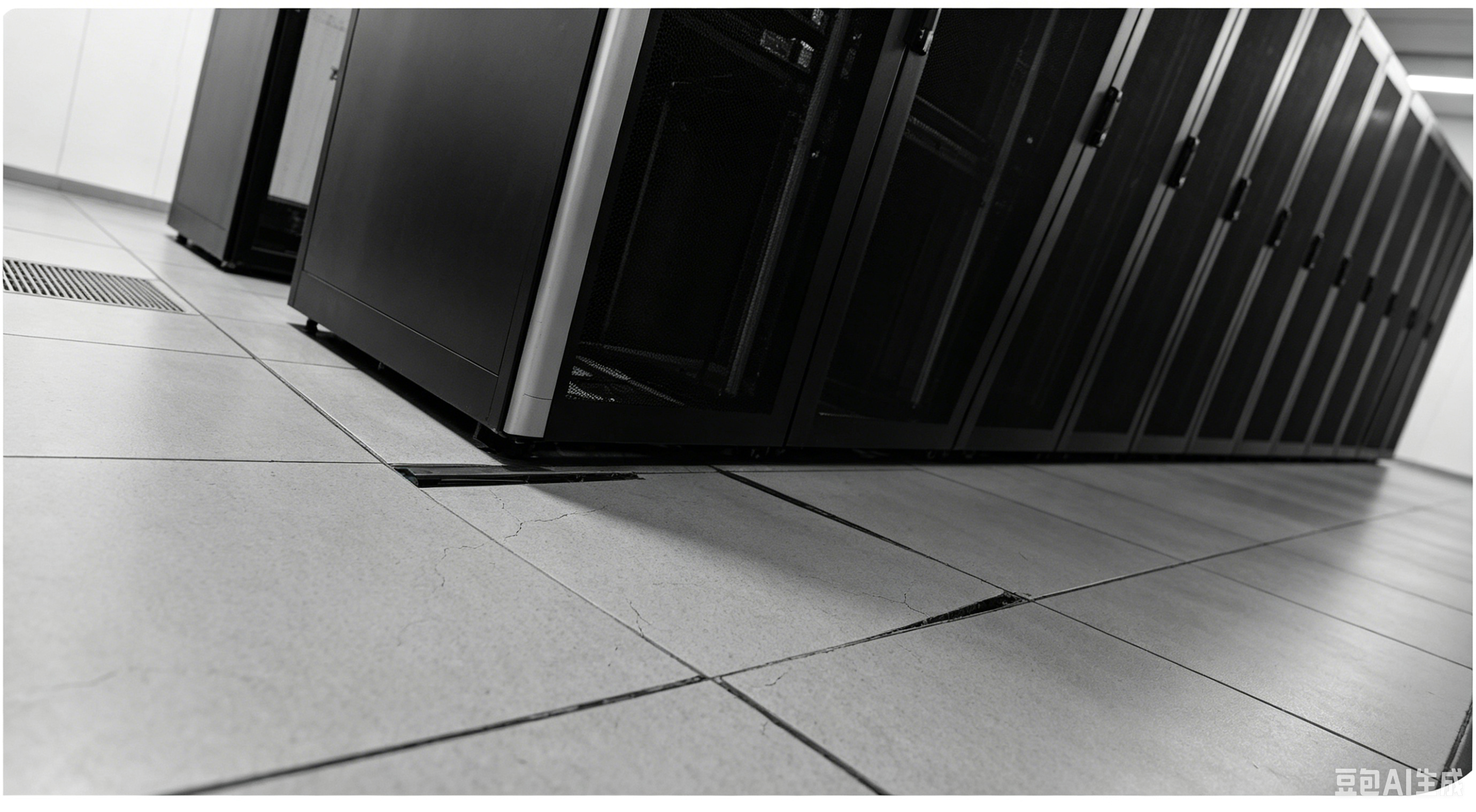floor_defect: (374, 457, 1027, 678)
